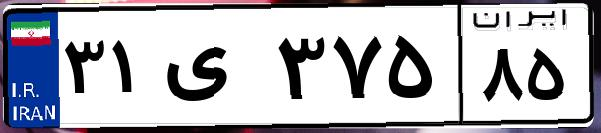1: (110, 28, 158, 98)
3: (270, 28, 330, 110), (57, 26, 110, 100)
5: (385, 28, 445, 110), (525, 38, 570, 115)
7: (330, 28, 385, 110)
8: (475, 38, 525, 113)
ی: (158, 20, 270, 120)
